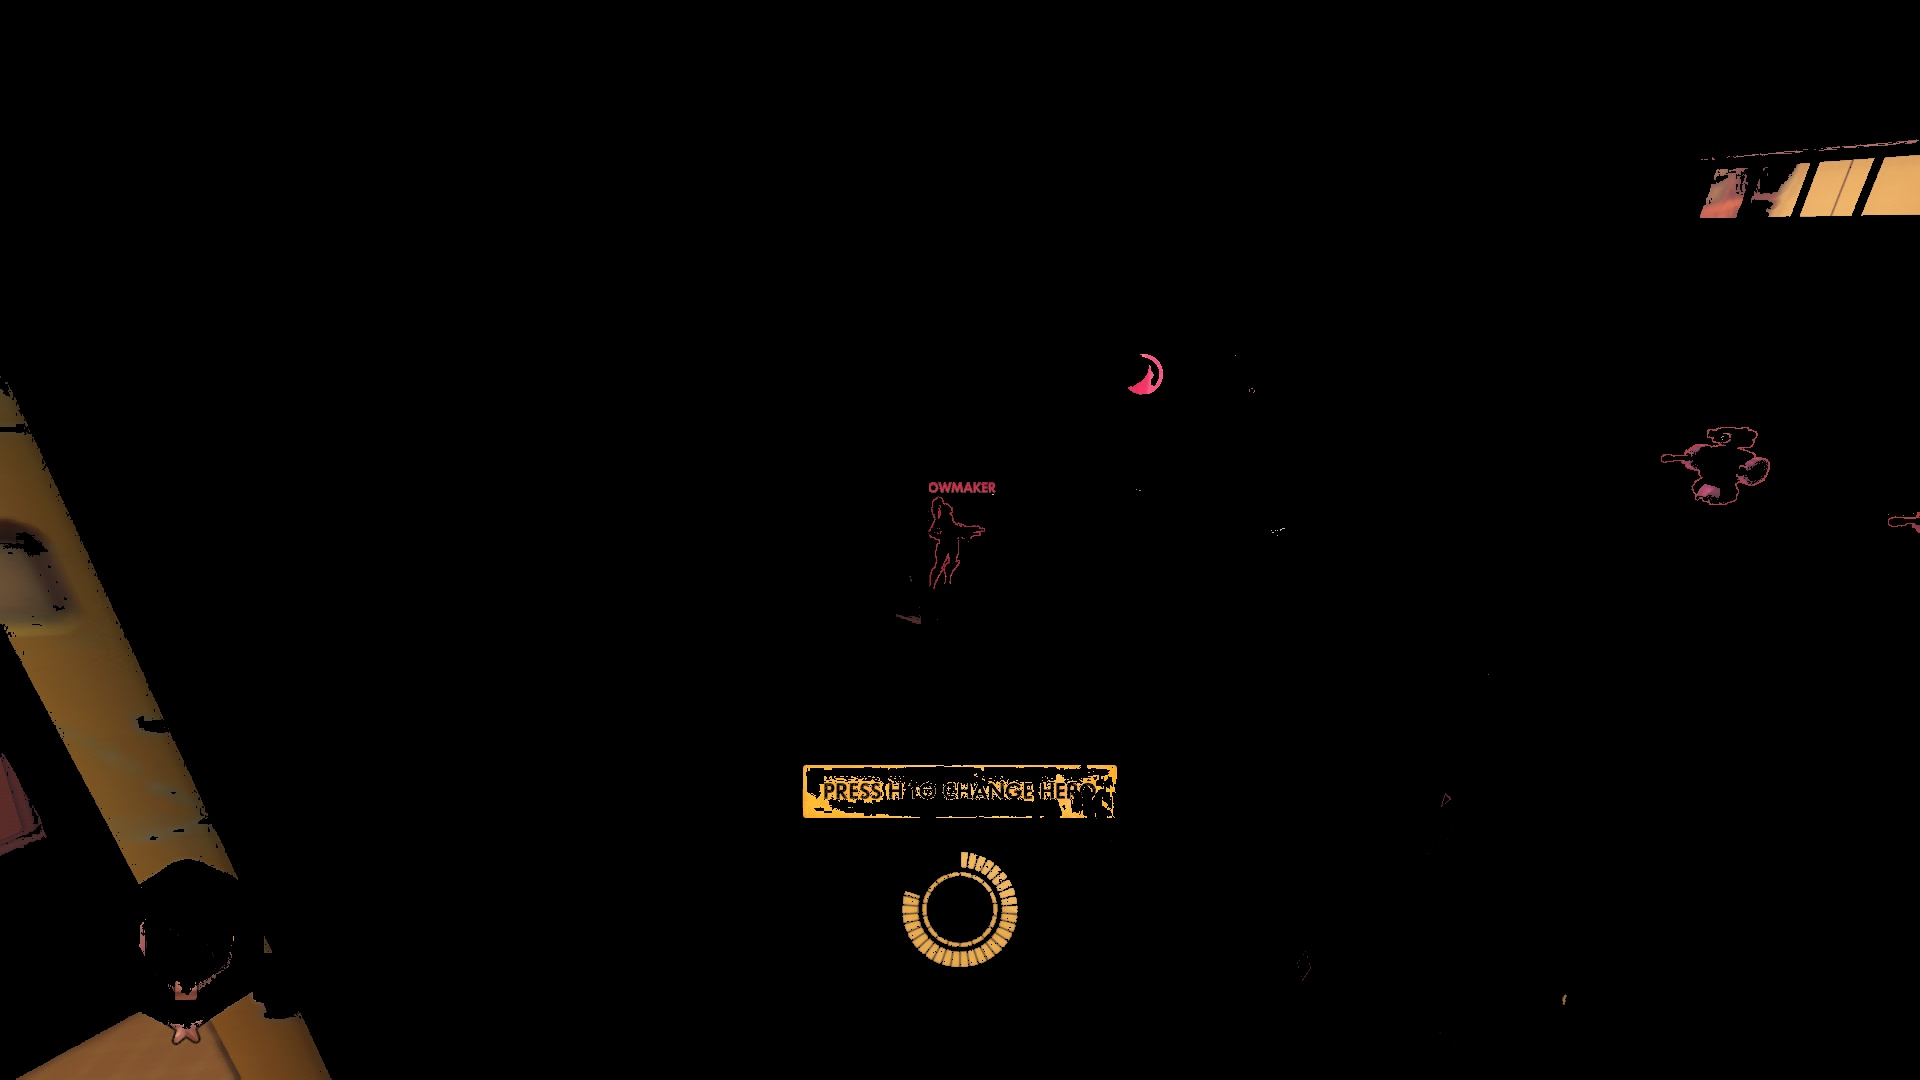widowmaker: (930, 496, 963, 591)
